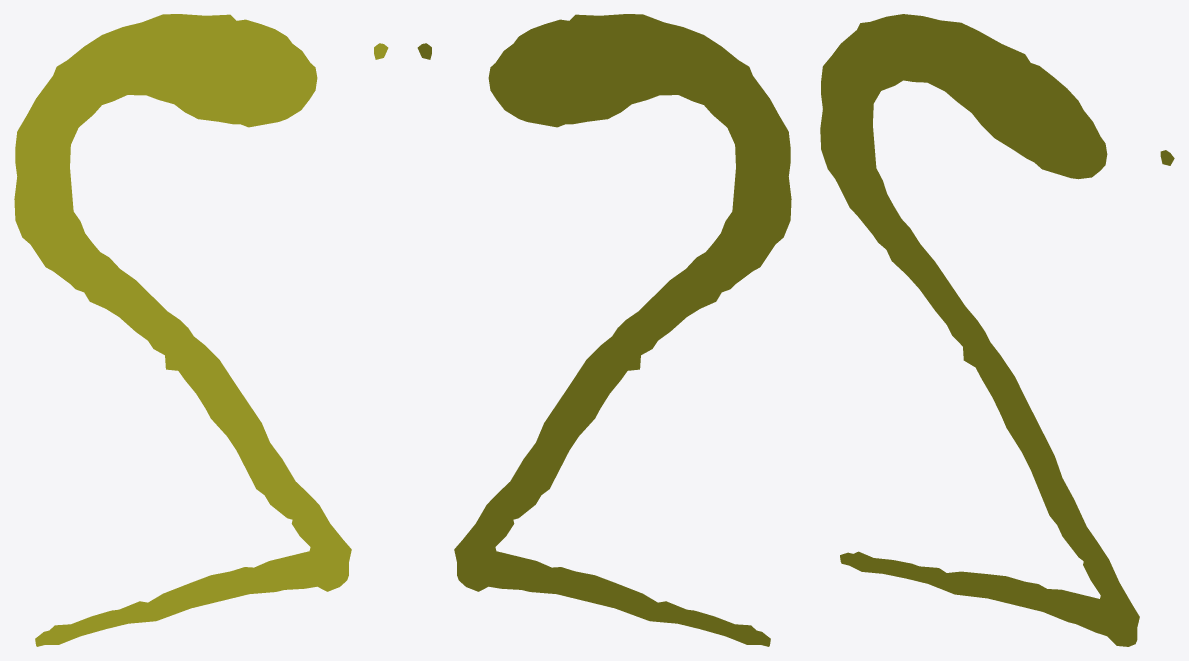
The model's file is two.obj.
The picture shows the model from 3 angles, left to right: view 1: azimuth 30°, elevation 25°; view 2: azimuth 150°, elevation 25°; view 3: azimuth 330°, elevation 25°; orthographic projection. The views are drawn at different scales.
Visible parts, largest first — view 1: two.001; view 2: two.001; view 3: two.001.
Part boxes in pixels (x1,y1,x2,y2): two.001: (14,14,388,646); two.001: (417,14,791,646); two.001: (820,14,1174,646).
Size of the model in its own units: 0.3449 by 0.5442 by 0.
